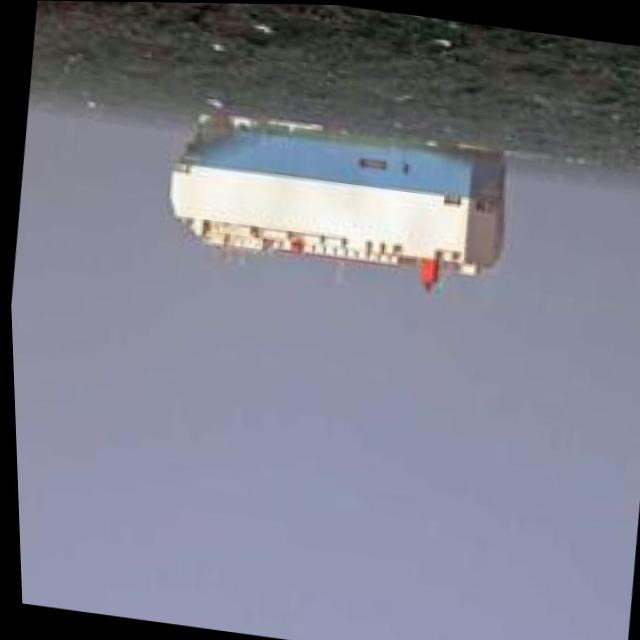ship2: (166, 114, 508, 291)
